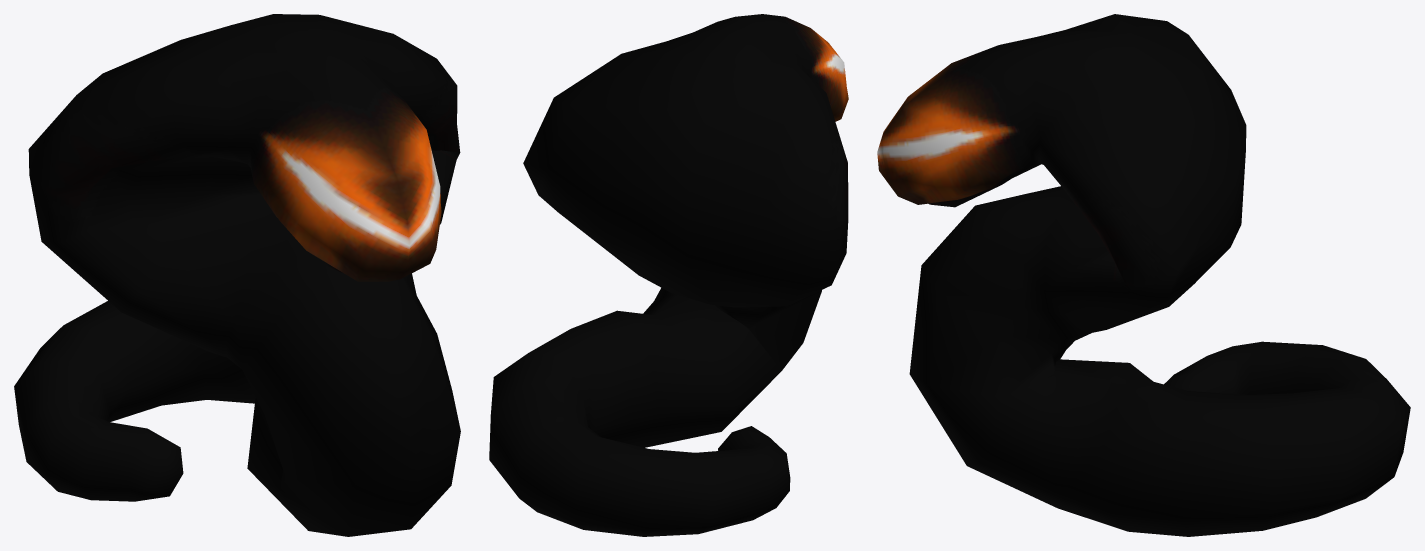
File: 0306_hebi.glb
3 renders of one model, left to right at view 1: azimuth 30°, elevation 25°; view 2: azimuth 150°, elevation 25°; view 3: azimuth 270°, elevation 25°, orthographic. The views are drawn at different scales.
Size of the model in its own units: 1.69 by 2.01 by 2.2.
1 material, 1 textured.
